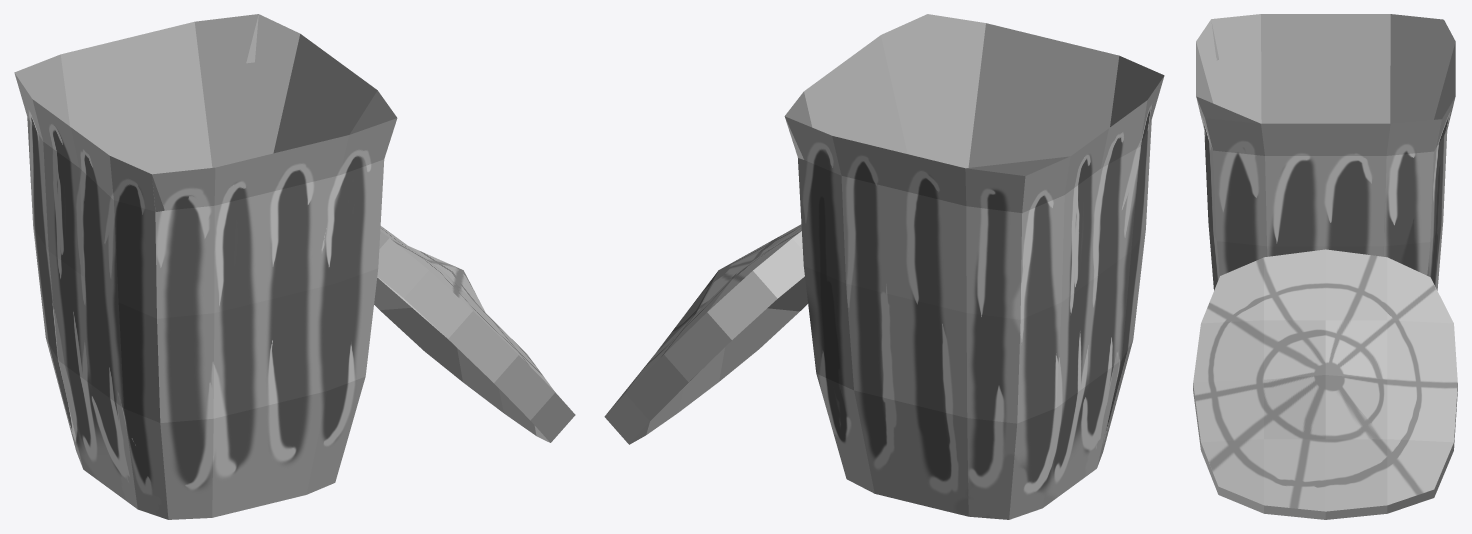
Rendered from smietnik.fbx.
The picture shows the model from 3 angles, left to right: view 1: azimuth 30°, elevation 25°; view 2: azimuth 150°, elevation 25°; view 3: azimuth 270°, elevation 25°; orthographic projection. The views are drawn at different scales.
Parts seen in each view (by area): view 1: Cube, Cube.001; view 2: Cube, Cube.001; view 3: Cube.001, Cube.
Boxes of the visible parts, left/top/right/bottom form: Cube: left=14, top=14, right=397, bottom=519; Cube.001: left=374, top=226, right=575, bottom=442; Cube: left=784, top=14, right=1164, bottom=519; Cube.001: left=604, top=224, right=807, bottom=444; Cube.001: left=1193, top=249, right=1457, bottom=519; Cube: left=1196, top=14, right=1455, bottom=290.
Size of the model in its own units: 468 by 383 by 279.
